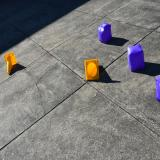cone: (85, 59, 99, 80), (4, 52, 17, 74)
cube: (128, 44, 144, 72), (98, 22, 112, 43), (155, 76, 160, 102)
